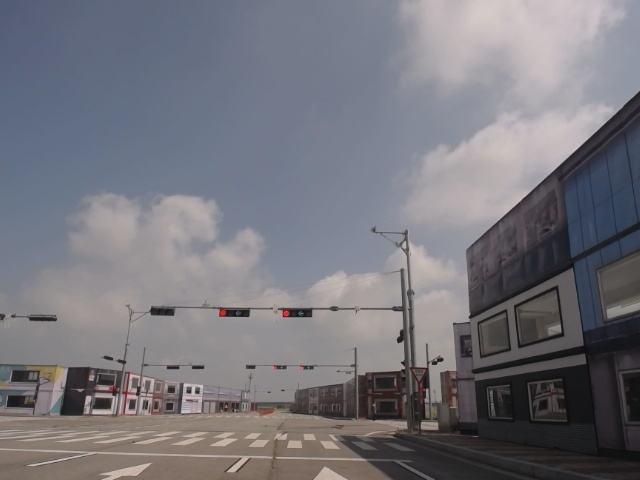left_green_4: (219, 309, 250, 317), (283, 310, 312, 317)
